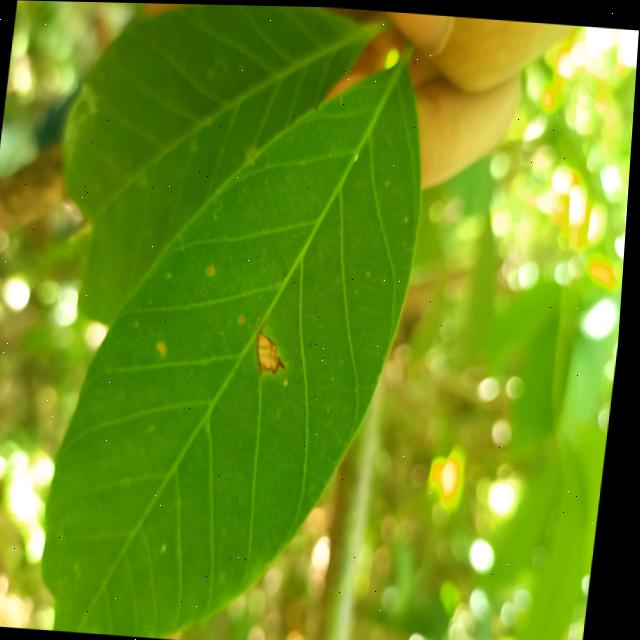Leaf-Blight: (259, 332, 284, 367)
